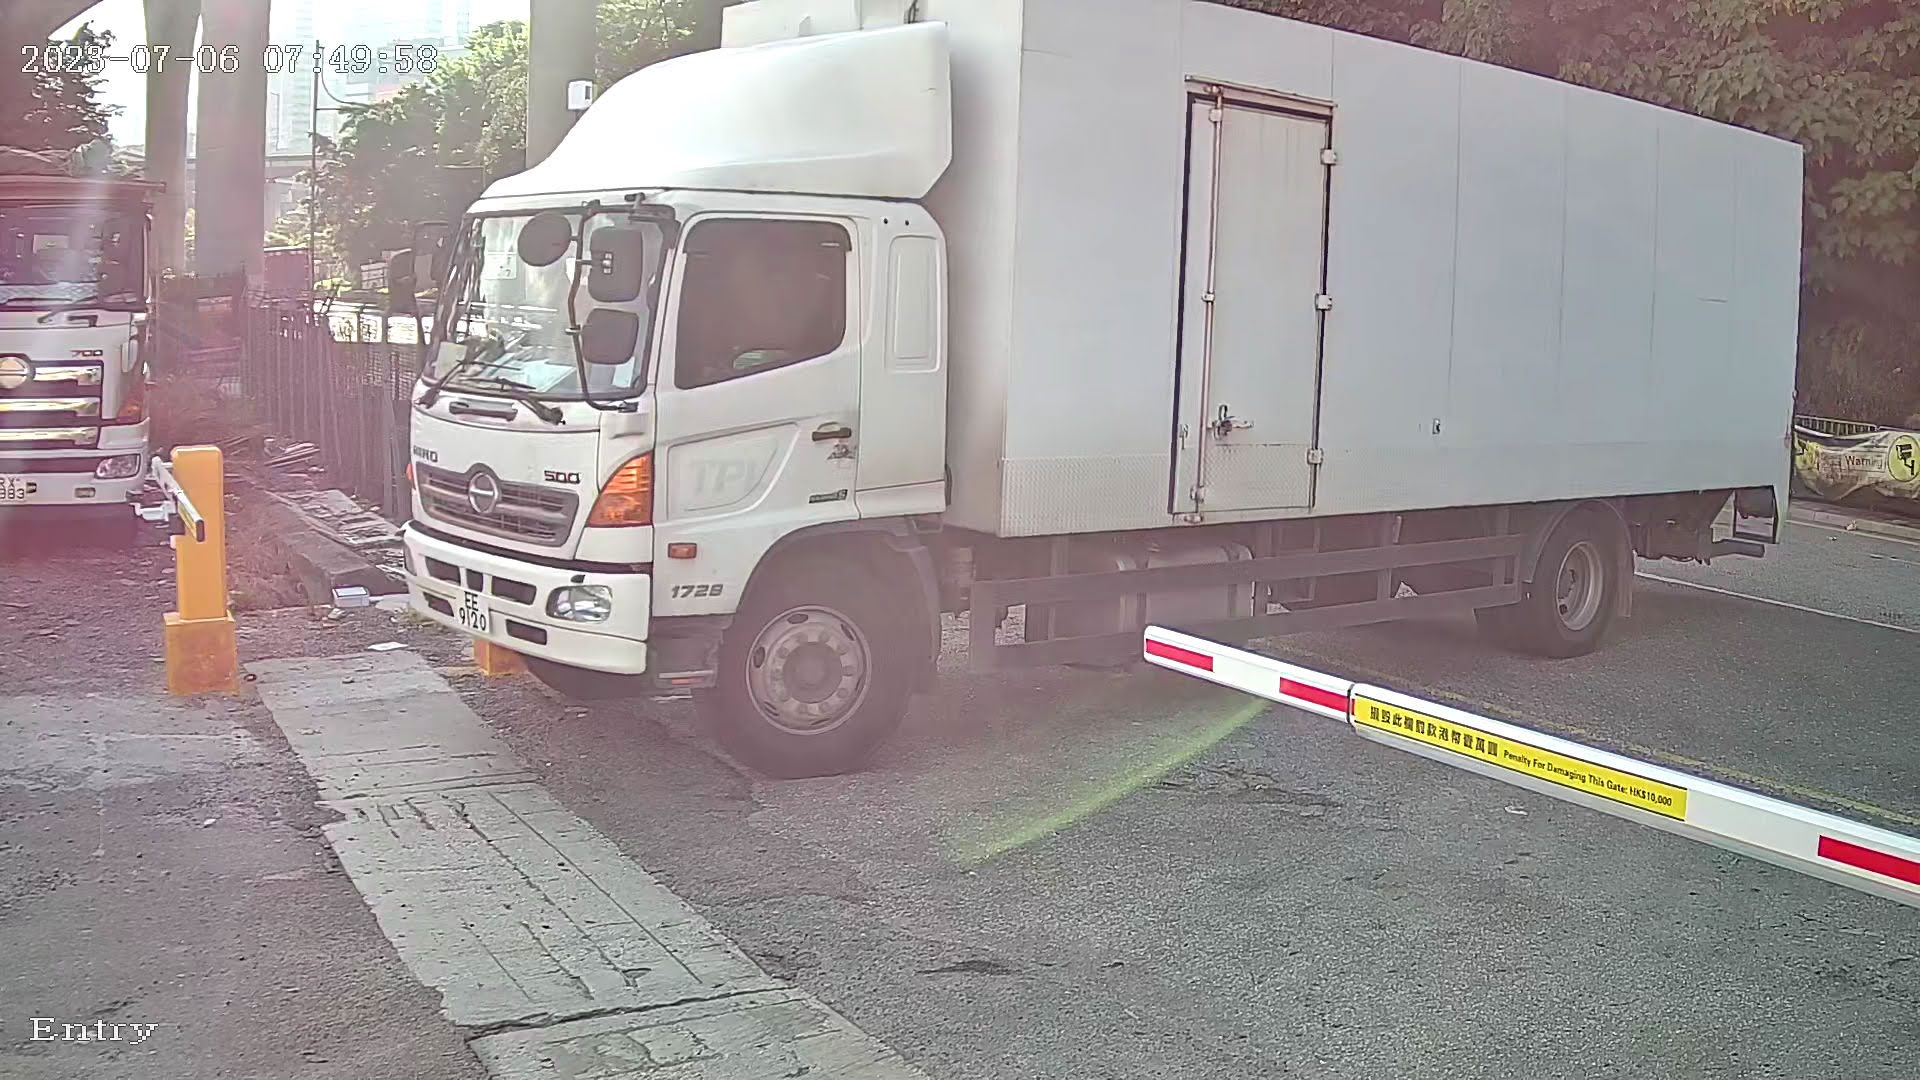truck: (355, 1, 1861, 764)
